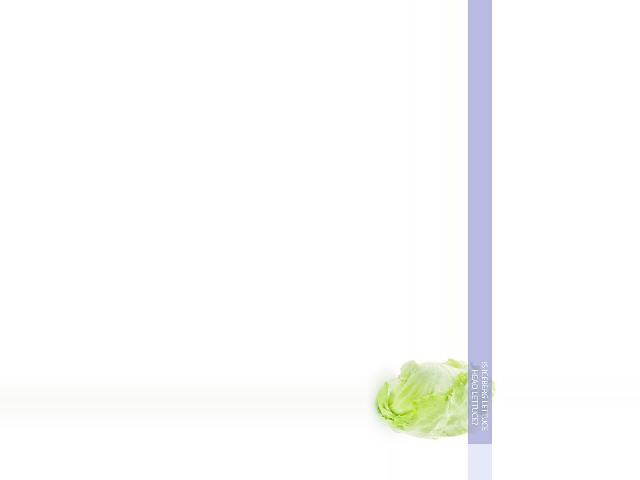lettuce: (370, 358, 495, 436)
